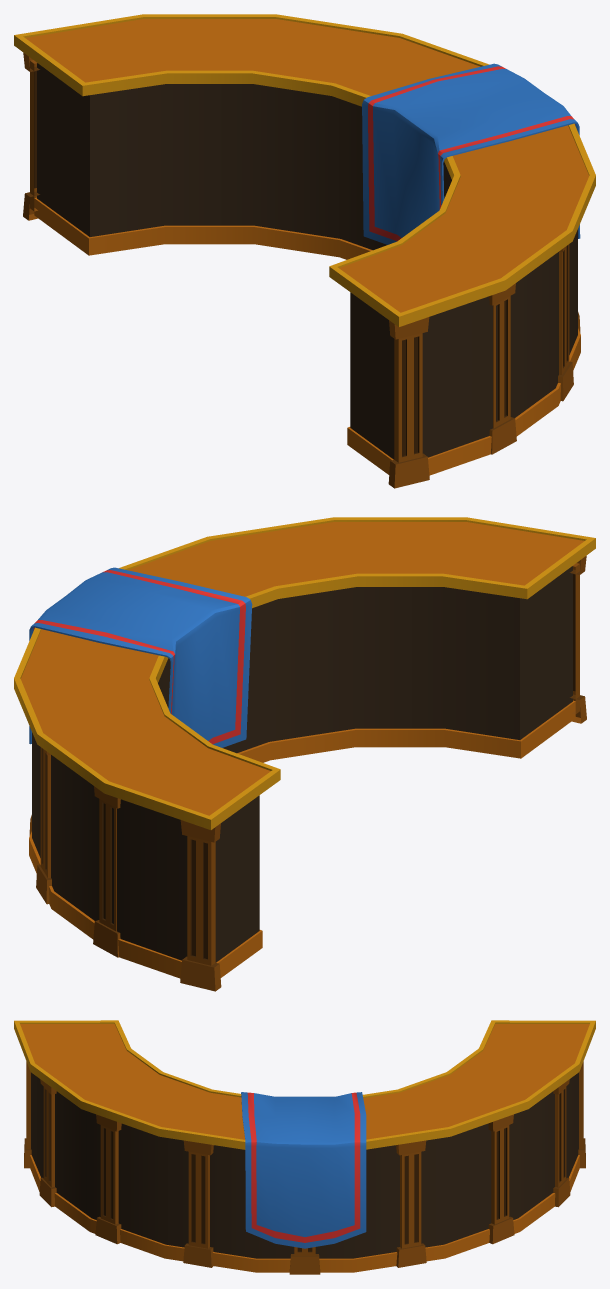
The model's file is Wizard_Desk.fbx.
3 views of the same model, one above another, from view 1: azimuth 30°, elevation 25°; view 2: azimuth 150°, elevation 25°; view 3: azimuth 270°, elevation 25° (orthographic). The views are drawn at different scales.
Visible parts, largest first — view 1: Wizard_Desk; view 2: Wizard_Desk; view 3: Wizard_Desk.
Part boxes in pixels (bbox=[...]): Wizard_Desk: bbox=[14, 14, 595, 488]; Wizard_Desk: bbox=[14, 517, 595, 991]; Wizard_Desk: bbox=[14, 1020, 595, 1274].
Size of the model in its own units: 1.73 by 0.8885 by 3.38.
